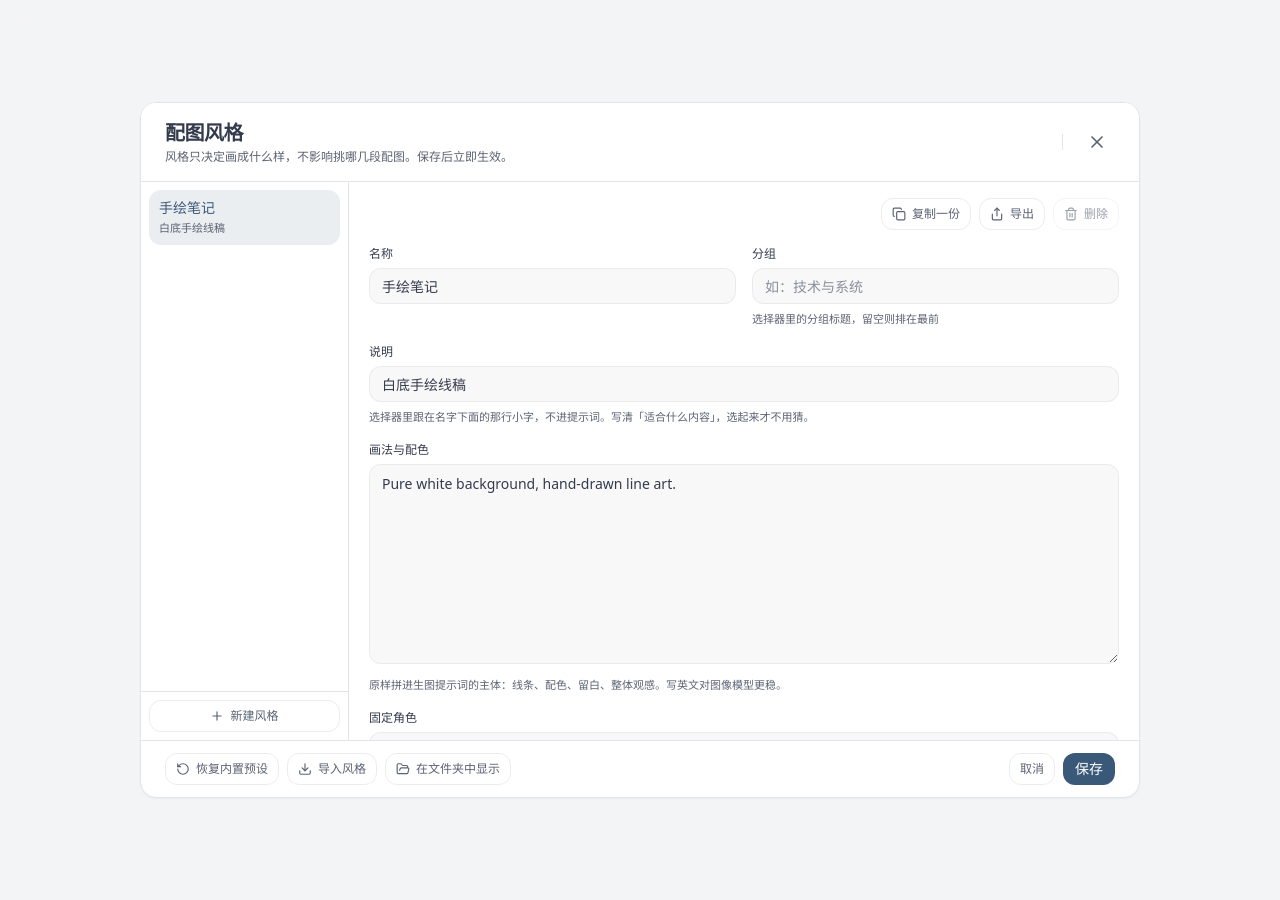
Test: IllustrationStyleEditor › 画法清空后不发保存请求，就地给出原因
Clear the text box labelled "画法与配色": (744,564) x1=369 y1=464 x2=1119 y2=664
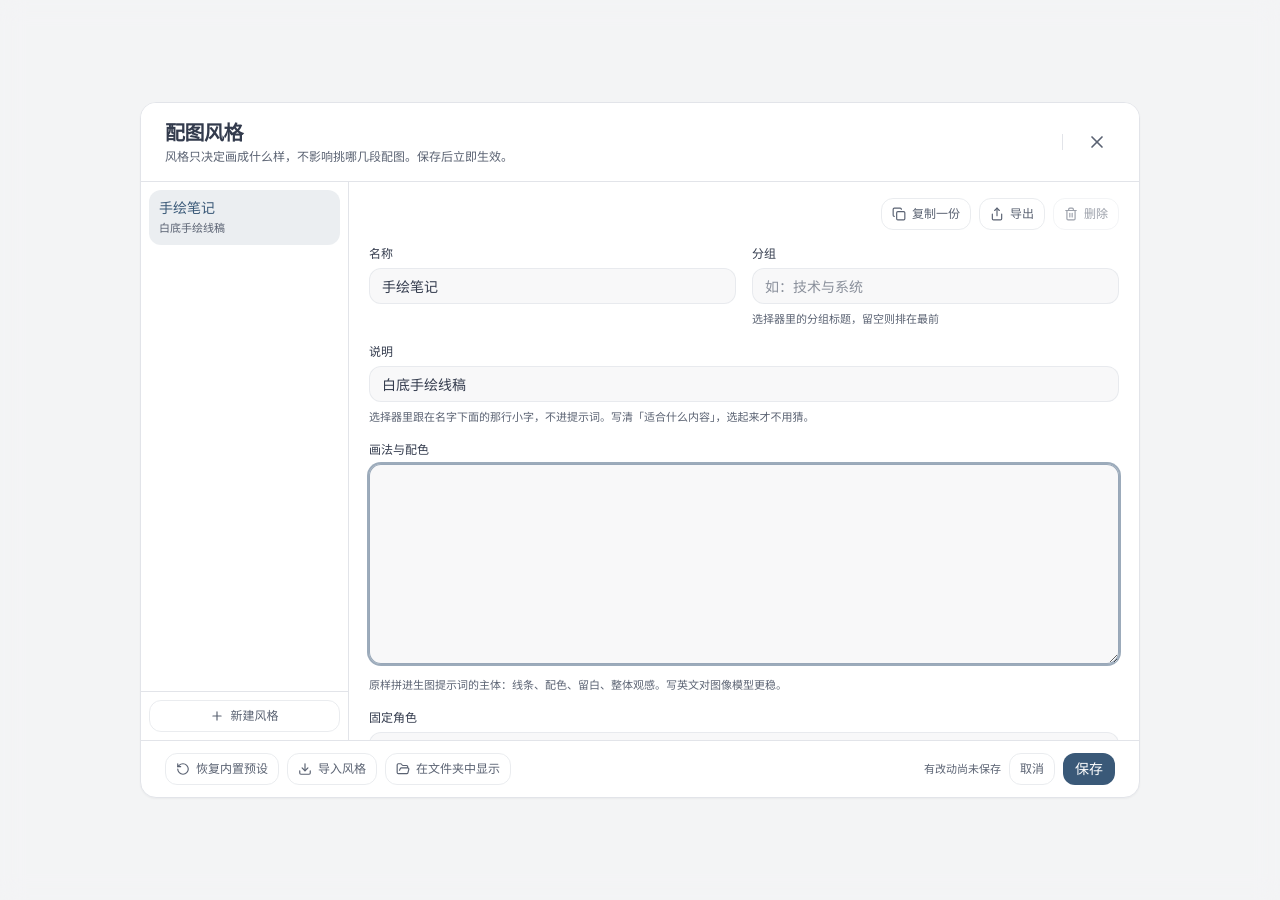
Click the button "保存": (1089,769) x1=1063 y1=753 x2=1115 y2=785
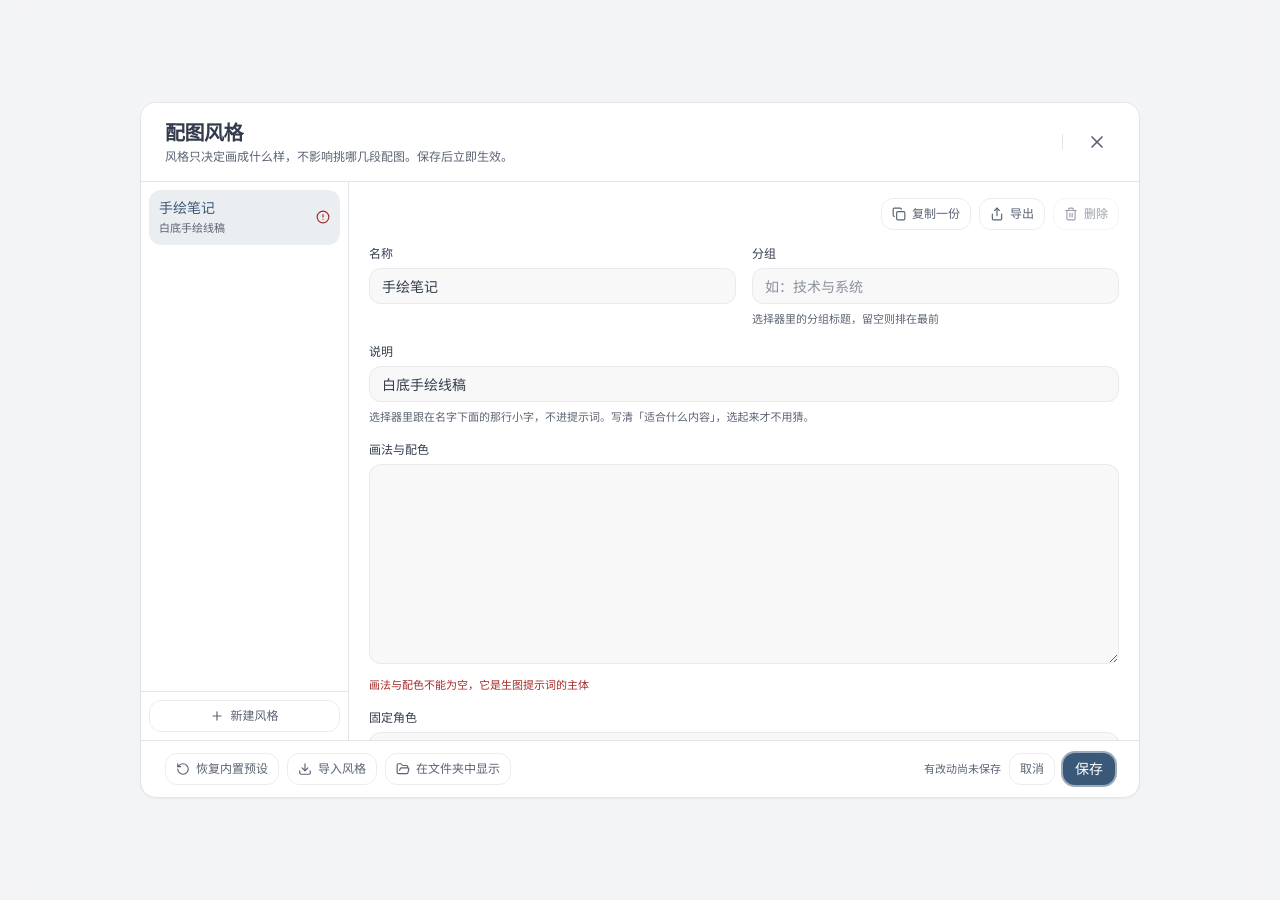
Result: the text "画法与配色不能为空，它是生图提示词的主体" is shown at x1=369 y1=677 x2=589 y2=692
